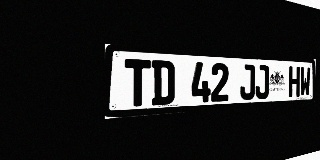2: (211, 63, 229, 102)
4: (191, 62, 211, 103)
D: (151, 60, 175, 106)
H: (289, 66, 300, 97)
J: (240, 64, 255, 100), (255, 65, 269, 99)
T: (125, 59, 151, 107)
W: (300, 67, 311, 97)
